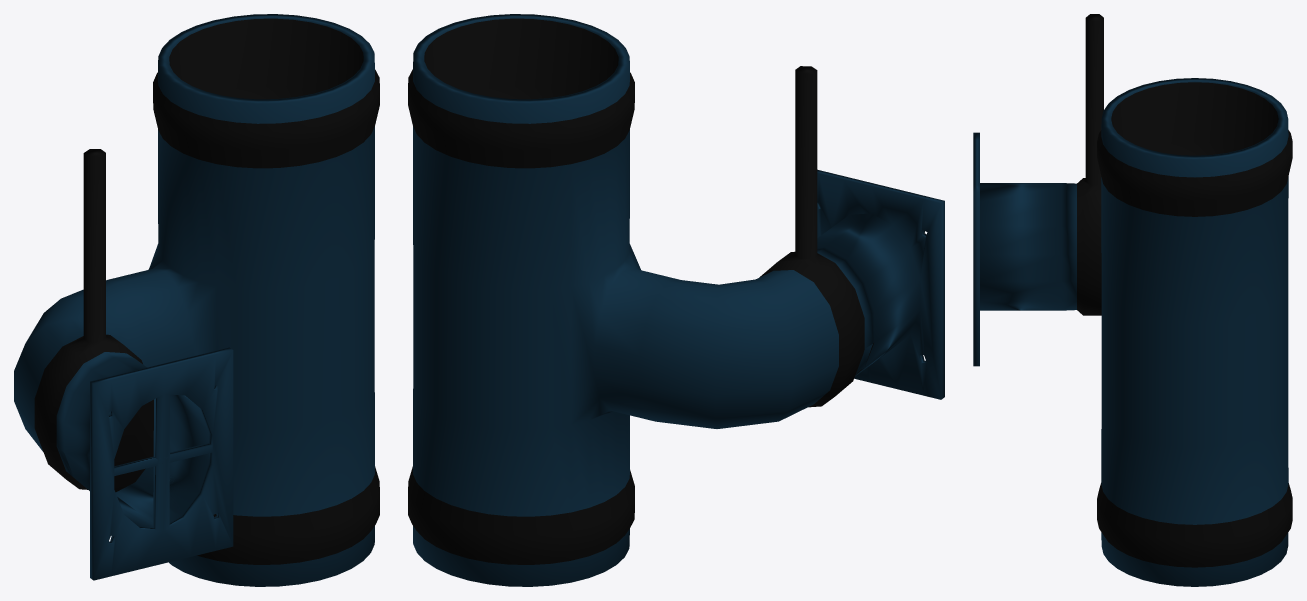
Rendered from vent pipe.fbx.
The picture shows the model from 3 angles, left to right: view 1: azimuth 30°, elevation 25°; view 2: azimuth 150°, elevation 25°; view 3: azimuth 270°, elevation 25°; orthographic projection. The views are drawn at different scales.
Visible parts, largest first — view 1: Cylinder.001; view 2: Cylinder.001; view 3: Cylinder.001.
Part boxes in pixels (x1,y1,x2,y2): Cylinder.001: [14, 14, 379, 586]; Cylinder.001: [408, 14, 944, 586]; Cylinder.001: [973, 14, 1292, 586].
Bounding box in the file's own units: 352 × 411 × 277.
